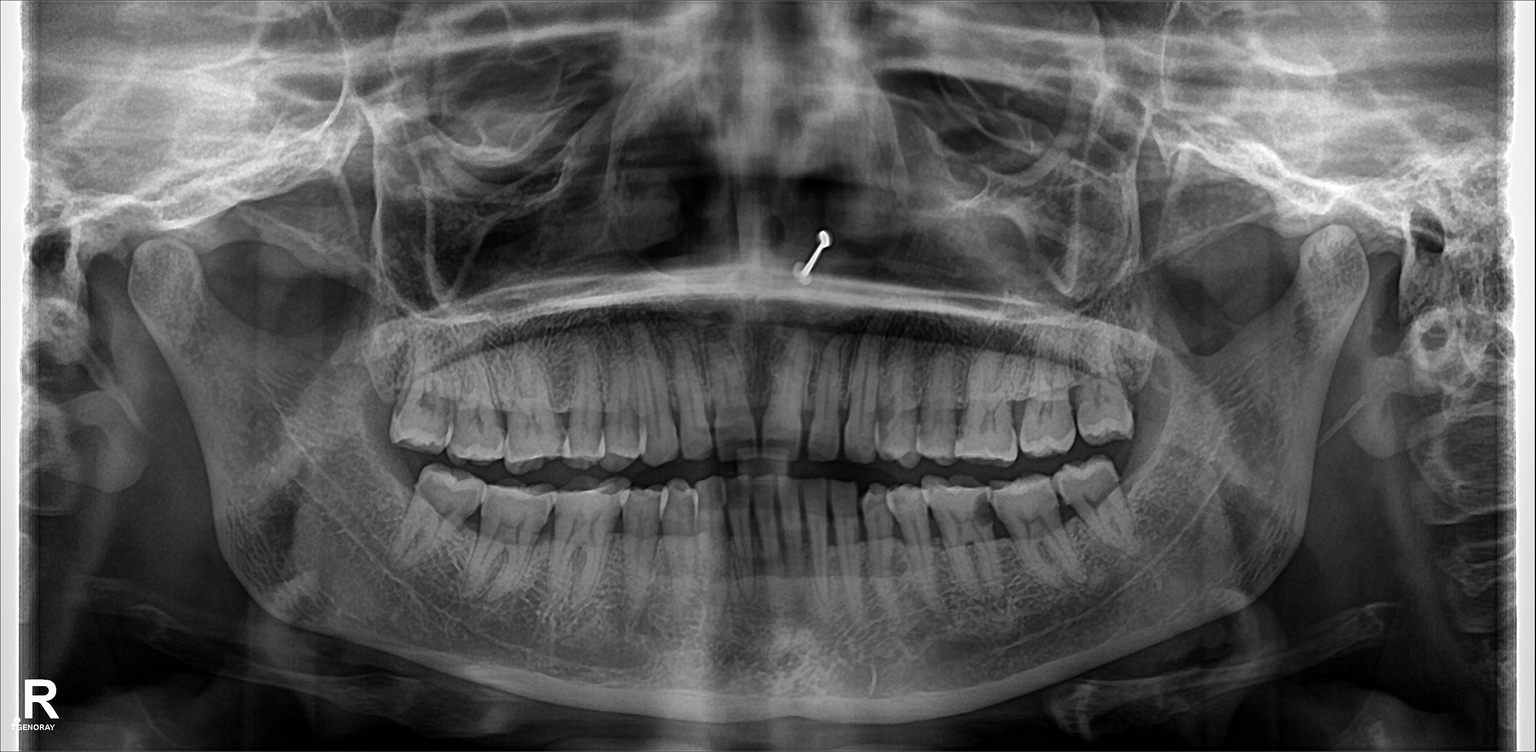Dental Caries: (965, 493, 997, 533)
Missing Tooth: (1127, 342, 1171, 438)
